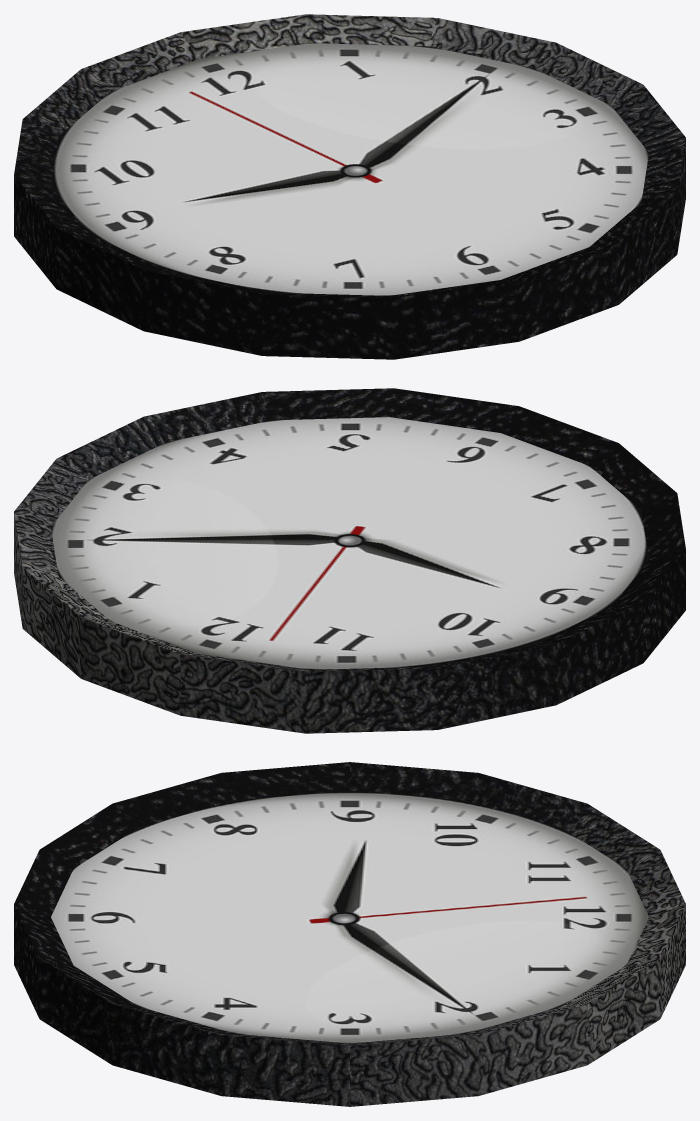
Rendered from Reloj.FBX.
3 renders of one model, top to bottom at view 1: azimuth 30°, elevation 25°; view 2: azimuth 150°, elevation 25°; view 3: azimuth 270°, elevation 25°, orthographic.
Parts seen in each view (by area): view 1: Cylinder001; view 2: Cylinder001; view 3: Cylinder001.
Part boxes in pixels (box(x1,y1,x2,y2)): Cylinder001: box(14, 14, 685, 359); Cylinder001: box(14, 388, 685, 733); Cylinder001: box(14, 762, 685, 1106).
Size of the model in its own units: 30 by 3 by 30.
